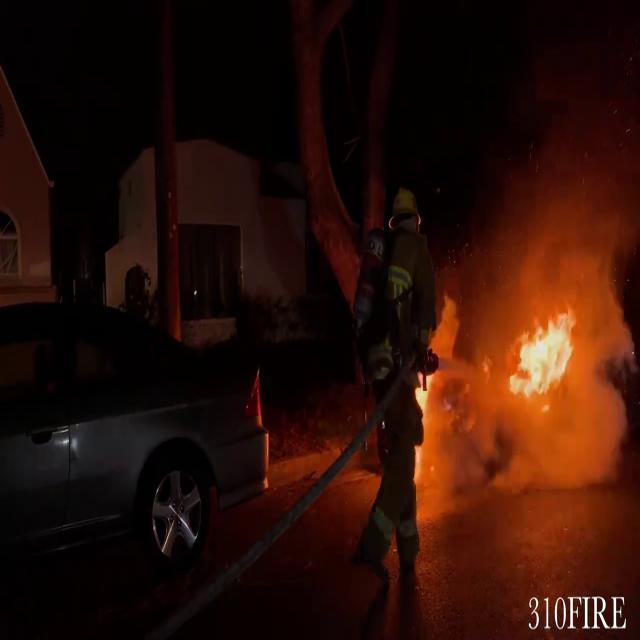Fire: (506, 298, 584, 408)
Smoke: (458, 29, 640, 304)
